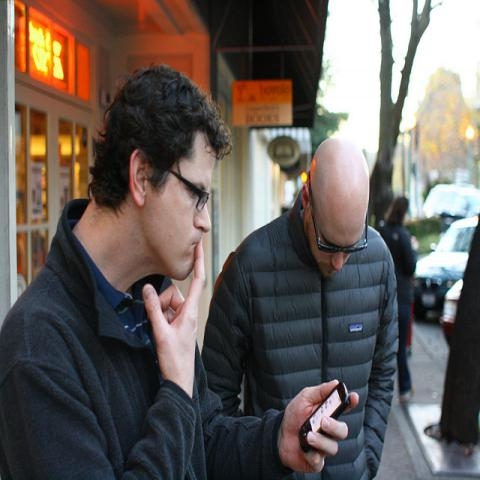car: (412, 216, 479, 320), (420, 181, 479, 220), (439, 276, 464, 350)
